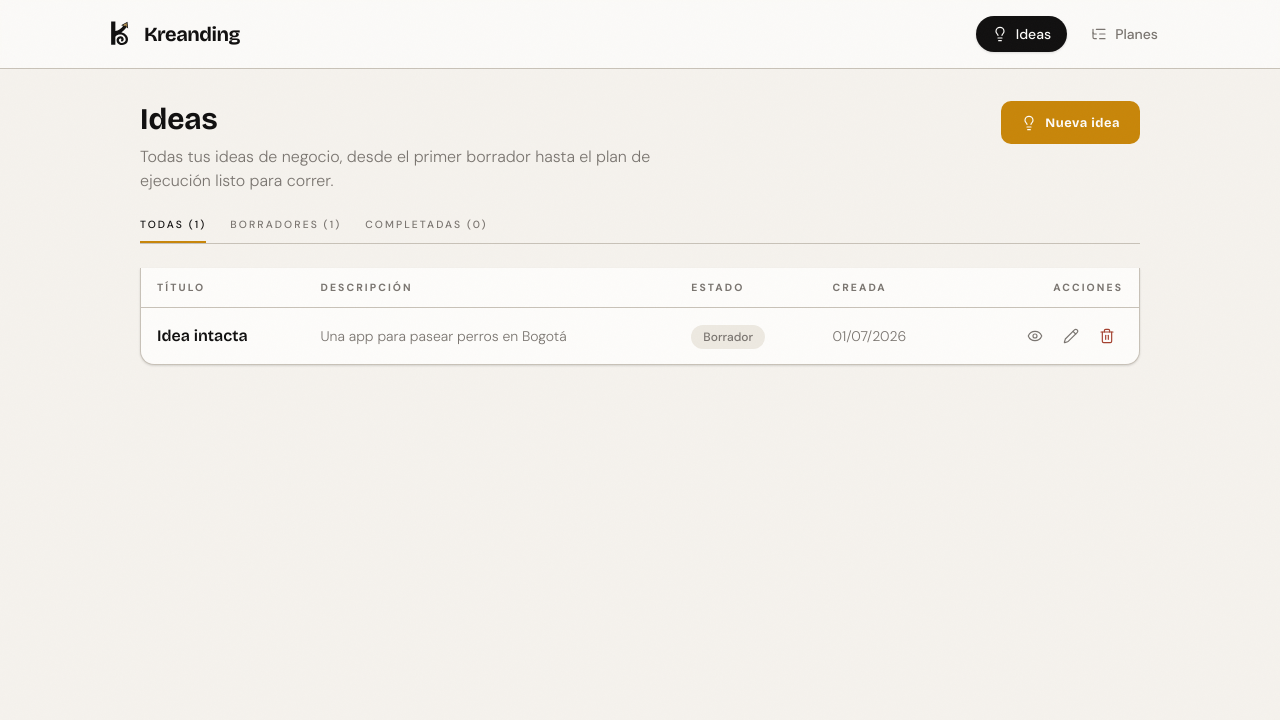
Test: Borrado de idea › cancelar cierra el modal sin borrar
expect the table is shown: met, box left=141, top=268, right=1139, bottom=364
Click the button named "Eliminar" at (1107, 336), box left=1091, top=320, right=1123, bottom=352
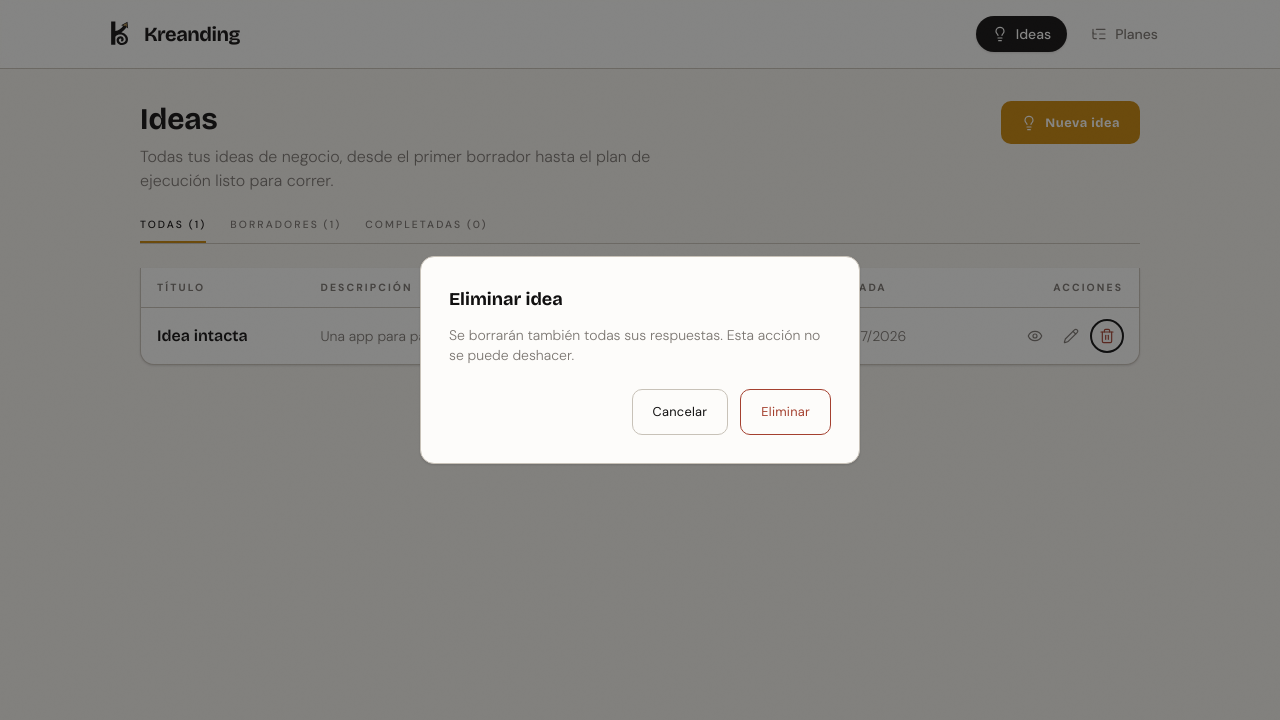
Click the button "Cancelar" at (680, 412), box left=632, top=389, right=728, bottom=435
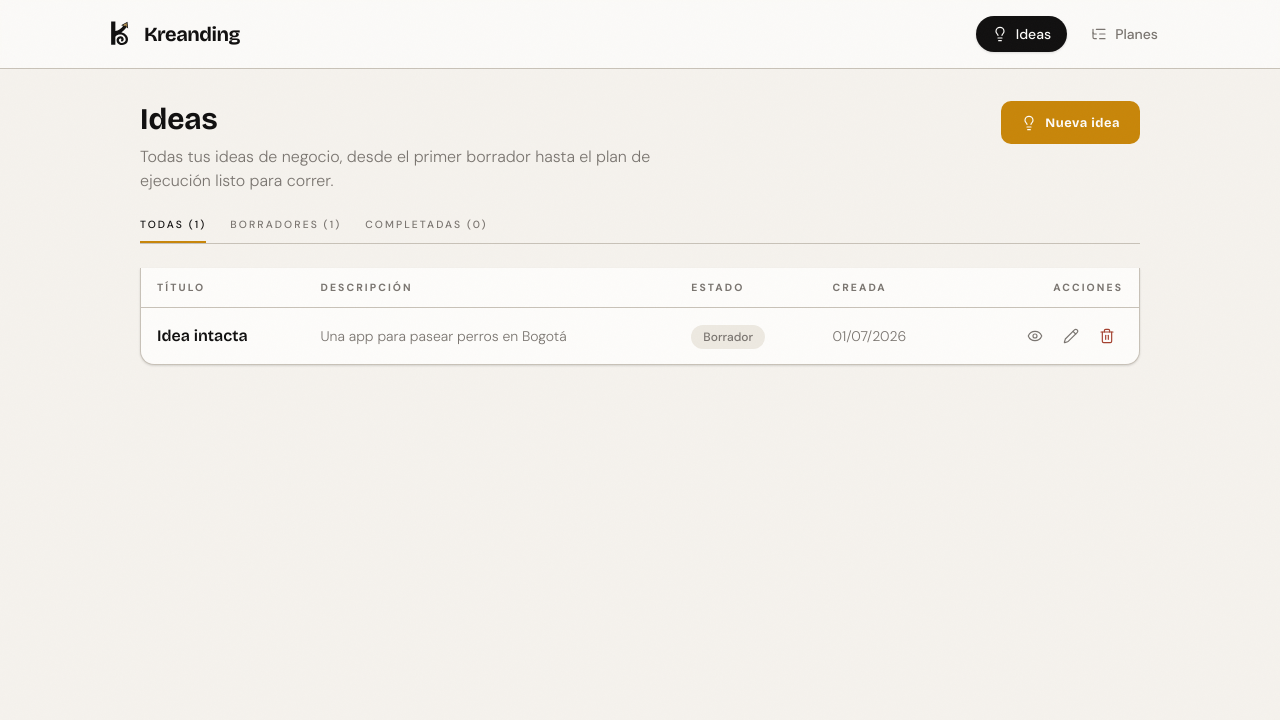
expect the text "Idea intacta" is shown: met, box left=141, top=308, right=304, bottom=364
expect the dialog is gone: met
